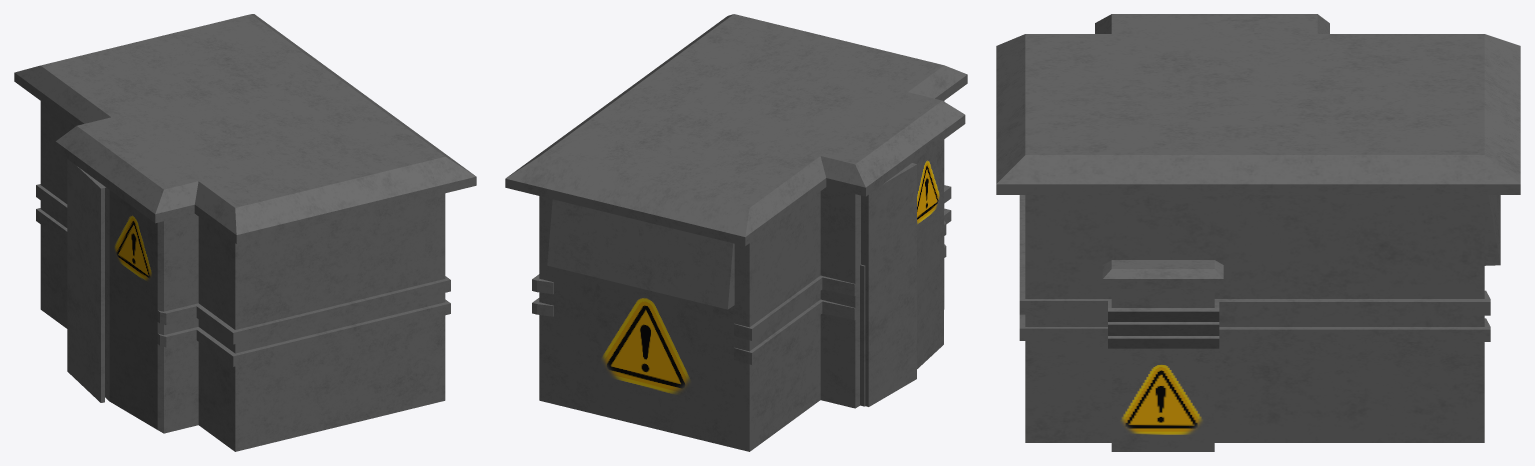
The model's file is sira fignya2.fbx.
3 views of the same model, side by side, from view 1: azimuth 30°, elevation 25°; view 2: azimuth 150°, elevation 25°; view 3: azimuth 270°, elevation 25° (orthographic). The views are drawn at different scales.
Parts seen in each view (by area): view 1: Cube.001; view 2: Cube.001; view 3: Cube.001.
Boxes of the visible parts, left/top/right/bottom form: Cube.001: left=14, top=14, right=476, bottom=451; Cube.001: left=505, top=14, right=967, bottom=451; Cube.001: left=996, top=14, right=1520, bottom=451.
Bounding box in the file's own units: 331 × 268 × 442.
Materials: 1 (1 with a texture image).
